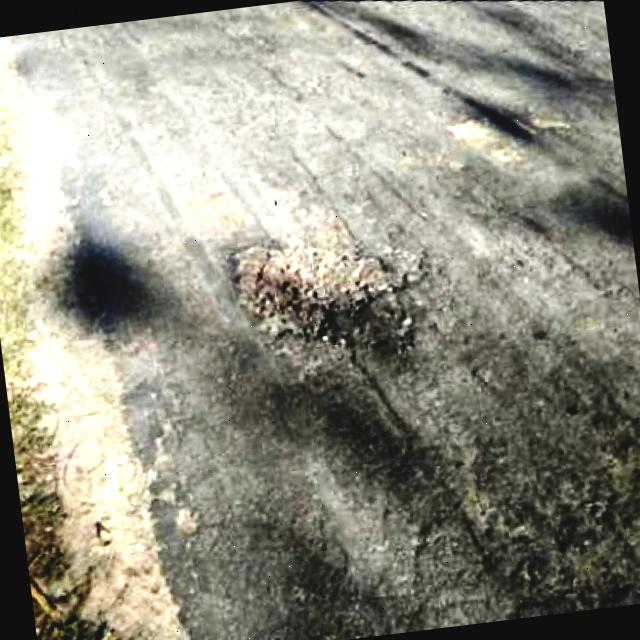pothole: (226, 222, 428, 361)
